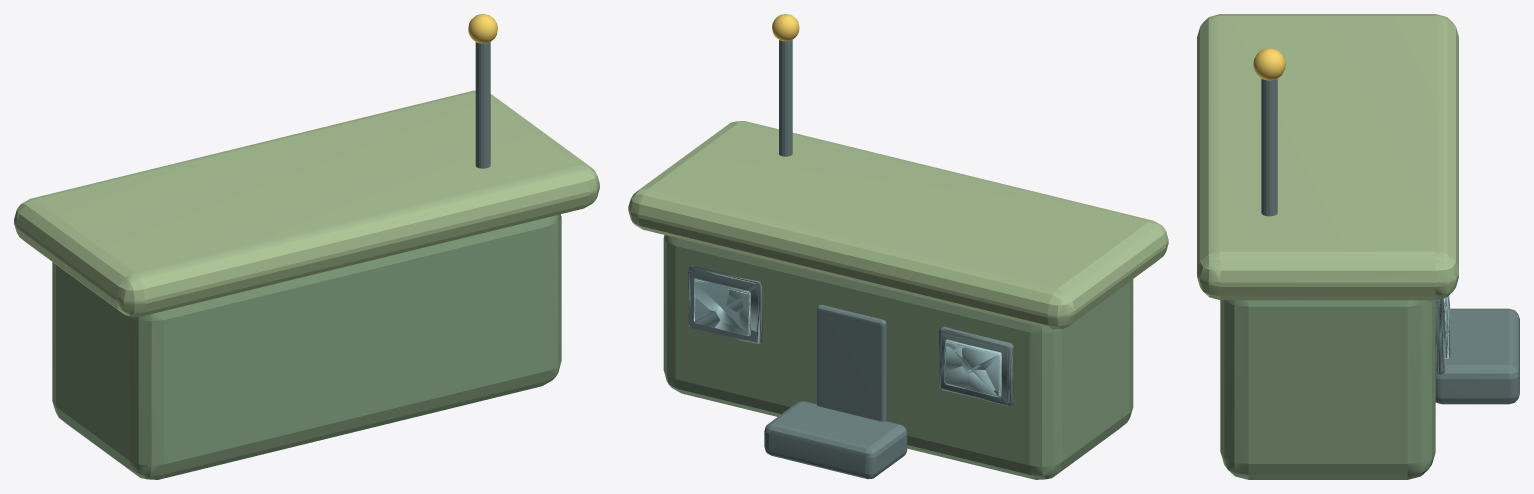
Rendered from headquarters.glb.
3 views of the same model, side by side, from view 1: azimuth 30°, elevation 25°; view 2: azimuth 150°, elevation 25°; view 3: azimuth 270°, elevation 25° (orthographic). The views are drawn at different scales.
Parts seen in each view (by area): view 1: HQWalls, HQRoof, Antenna, SignalTip; view 2: HQRoof, HQWalls, Steps, Door, Window, Window.001, WindowFrame, WindowFrame.001, Antenna, SignalTip; view 3: HQRoof, HQWalls, Steps, Antenna, SignalTip, WindowFrame.001, Window.001.
Part boxes in pixels (x1,y1,x2,y2): HQWalls: (52,214,561,479); HQRoof: (14,90,599,316); Antenna: (475,42,490,168); SignalTip: (468,14,497,43); HQRoof: (628,121,1168,329); HQWalls: (663,235,1133,479); Steps: (764,401,907,479); Door: (817,304,886,421); Window: (944,339,1001,397); Window.001: (693,278,750,336); WindowFrame: (938,326,1013,405); WindowFrame.001: (687,265,762,344); Antenna: (779,40,792,156); SignalTip: (772,14,799,41); HQRoof: (1197,14,1458,300); HQWalls: (1220,300,1435,479); Steps: (1435,308,1519,404); Antenna: (1261,78,1277,216); SignalTip: (1253,48,1285,80); WindowFrame.001: (1435,298,1444,374); Window.001: (1444,295,1450,359).
Bounding box in the file's own units: 2.58 × 1.91 × 1.38.
